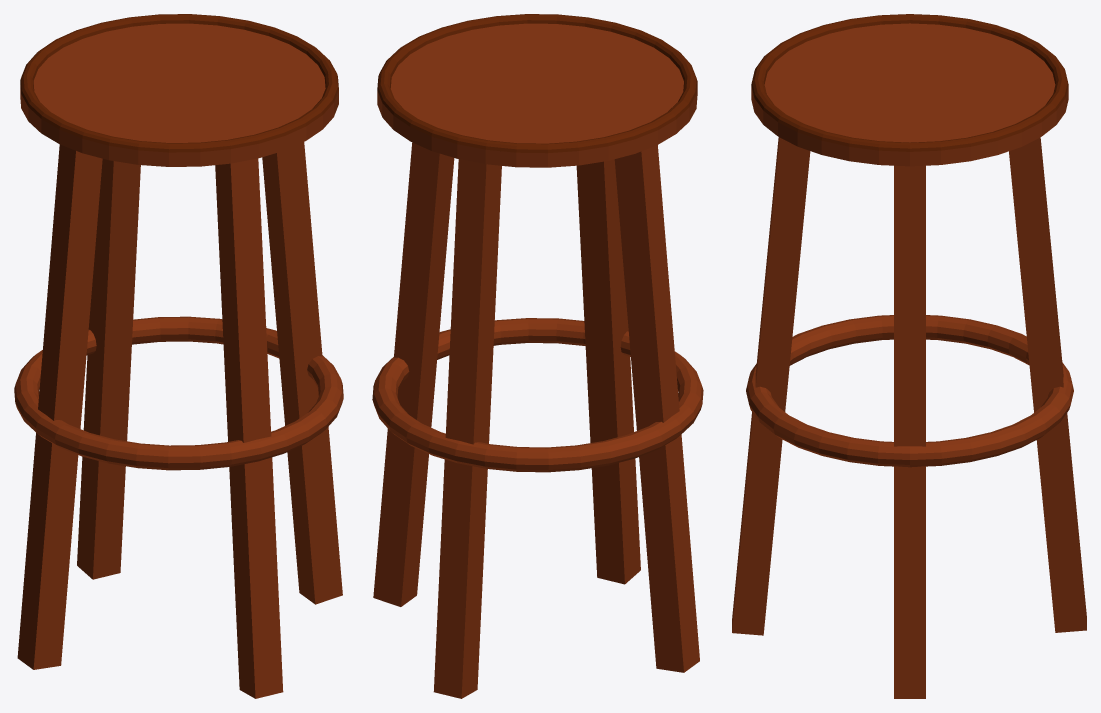
File: kruk.glb
The picture shows the model from 3 angles, left to right: view 1: azimuth 30°, elevation 25°; view 2: azimuth 150°, elevation 25°; view 3: azimuth 270°, elevation 25°; orthographic projection.
Visible parts, largest first — view 1: Cylinder, Cube.003, Cube, Cube.001, Cube.002, Torus.006, Torus.003; view 2: Cylinder, Cube.002, Cube, Cube.001, Cube.003, Torus.006, Torus.003; view 3: Cylinder, Cube.001, Cube.003, Cube.002, Torus.006, Torus.003.
Part boxes in pixels (left/top/right/bottom): Cylinder: left=20, top=23, right=338, bottom=166; Cube.003: left=215, top=158, right=283, bottom=698; Cube: left=17, top=144, right=102, bottom=669; Cube.001: left=262, top=142, right=342, bottom=604; Cube.002: left=77, top=158, right=140, bottom=579; Torus.006: left=14, top=316, right=343, bottom=470; Torus.003: left=20, top=14, right=338, bottom=152; Cylinder: left=377, top=23, right=697, bottom=167; Cube.002: left=433, top=159, right=501, bottom=698; Cube: left=614, top=145, right=699, bottom=672; Cube.001: left=373, top=142, right=454, bottom=606; Cube.003: left=576, top=159, right=640, bottom=584; Torus.006: left=372, top=318, right=703, bottom=472; Torus.003: left=377, top=14, right=697, bottom=153; Cylinder: left=751, top=23, right=1068, bottom=166; Cube.001: left=894, top=165, right=925, bottom=698; Cube.003: left=732, top=137, right=810, bottom=635; Cube.002: left=1009, top=137, right=1086, bottom=632; Torus.006: left=746, top=315, right=1073, bottom=467; Torus.003: left=751, top=14, right=1068, bottom=151.
Bounding box in the file's own units: 11.18 × 19.11 × 11.18.
